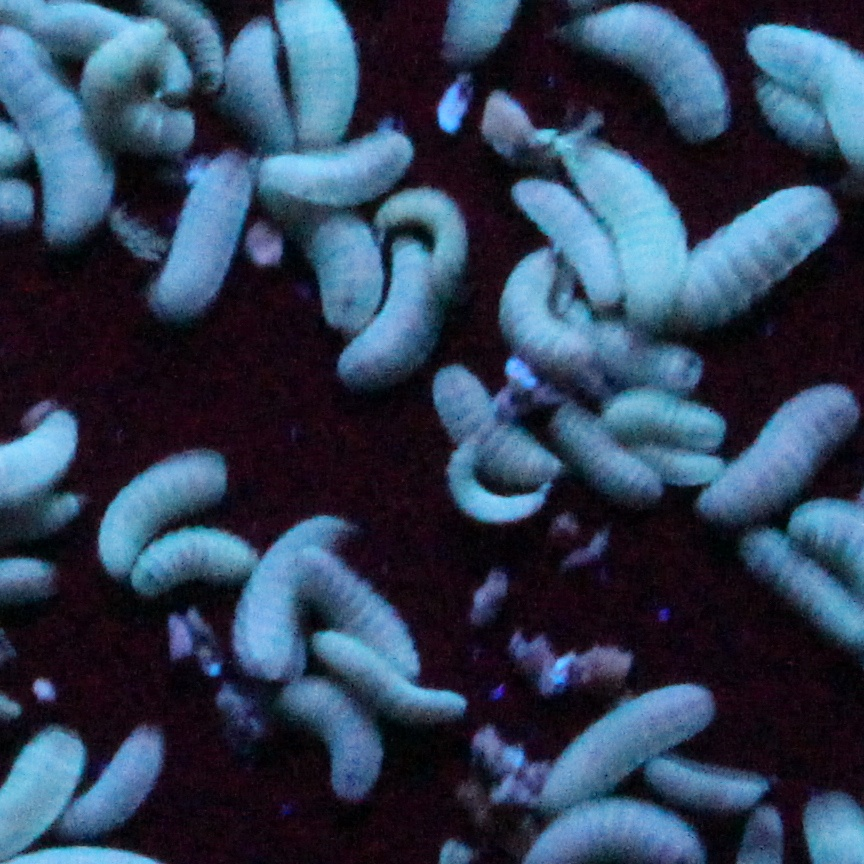larve: (652, 185, 848, 322), (532, 678, 721, 816), (689, 376, 858, 522), (89, 432, 244, 585), (226, 498, 350, 685), (139, 147, 261, 328), (304, 616, 488, 729), (332, 227, 444, 396), (503, 175, 640, 312), (421, 357, 567, 481), (283, 672, 393, 808), (247, 119, 414, 206), (439, 427, 557, 535), (67, 717, 157, 845), (588, 378, 726, 447), (117, 529, 265, 585)
